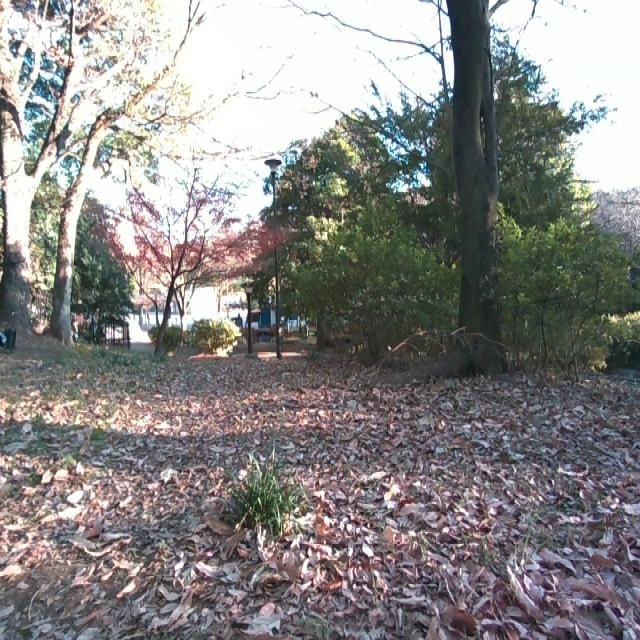artifact: (260, 156, 288, 332)
bush: (304, 212, 640, 365), (223, 454, 307, 540), (154, 316, 241, 354)
tree: (45, 0, 196, 343), (422, 0, 519, 372), (0, 0, 102, 333), (139, 225, 201, 351)
